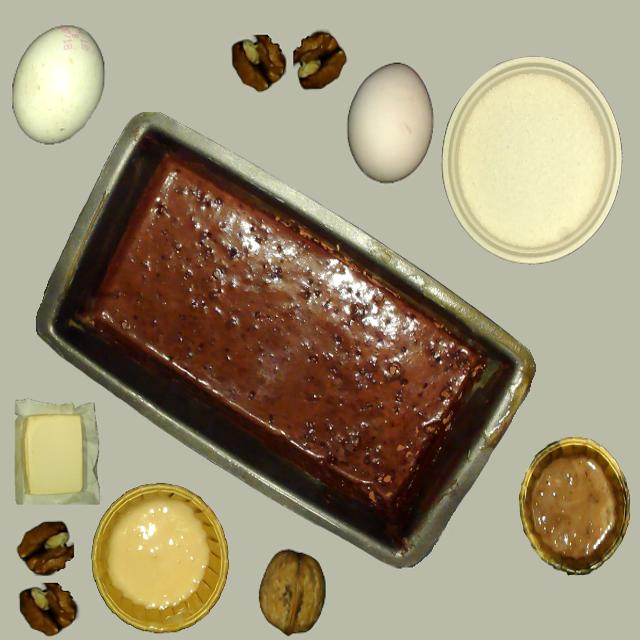Sugar: (441, 58, 621, 262)
Walnut: (249, 541, 334, 639)
